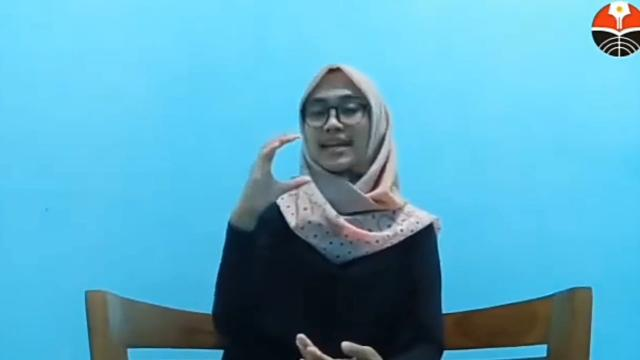C: (238, 133, 312, 217)
